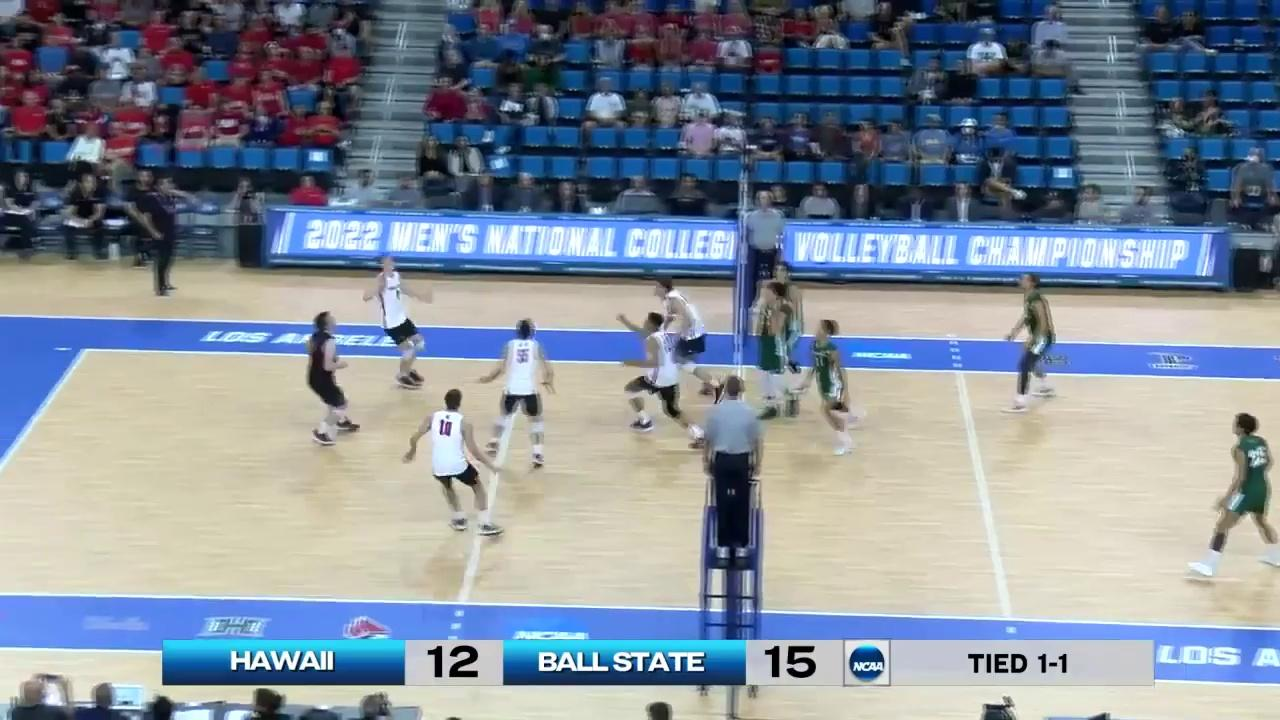player: (1186, 412, 1280, 577), (407, 392, 502, 535), (617, 314, 708, 448), (483, 320, 558, 467), (650, 280, 724, 397), (805, 318, 866, 457), (1003, 271, 1062, 412), (370, 257, 431, 388), (303, 313, 361, 446), (750, 282, 802, 422), (757, 263, 808, 399)
refree: (709, 375, 765, 556), (744, 191, 788, 324)
